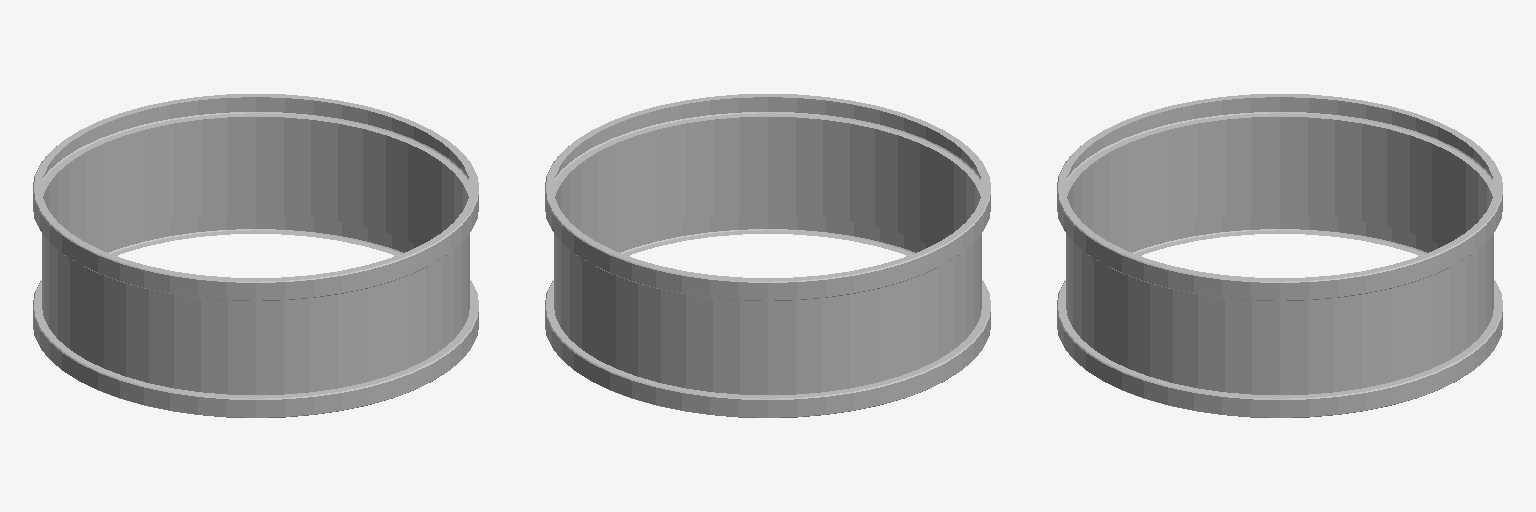
Rendered from PickBTN_3DC_UVed_f.obj.
3 renders of one model, left to right at view 1: azimuth 30°, elevation 25°; view 2: azimuth 150°, elevation 25°; view 3: azimuth 270°, elevation 25°, orthographic.
Parts seen in each view (by area): view 1: PickBTN; view 2: PickBTN; view 3: PickBTN.
Boxes of the visible parts, x1,y1,x2,y2 form: PickBTN: [33, 94, 478, 417]; PickBTN: [545, 94, 990, 417]; PickBTN: [1057, 94, 1502, 417].
Size of the model in its own units: 3.07 by 1.04 by 3.07.